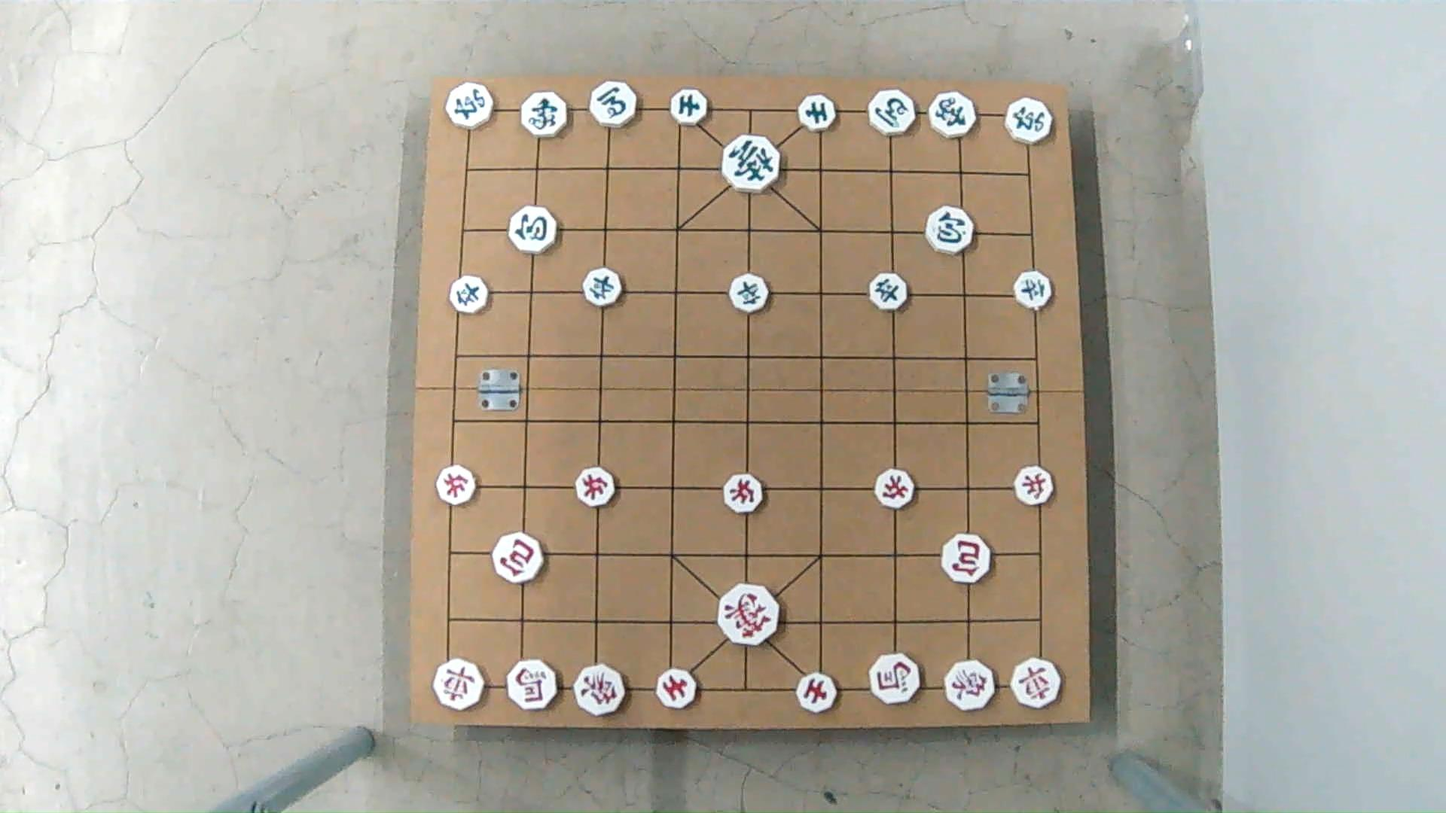cha_green: (1006, 96, 1057, 145), (444, 84, 496, 128)
cha_red: (1008, 660, 1063, 708), (431, 661, 486, 708)
jol_green: (580, 269, 626, 306), (865, 274, 911, 309), (725, 276, 770, 311), (1012, 273, 1055, 308), (449, 277, 491, 311)
jol_red: (432, 467, 479, 502), (719, 475, 765, 510), (574, 469, 618, 505), (1013, 470, 1058, 505), (874, 473, 917, 508)
ma_green: (588, 83, 640, 126), (865, 92, 918, 133)
ma_red: (507, 662, 561, 709), (870, 656, 924, 703)
po_green: (505, 209, 558, 252), (925, 210, 976, 252)
po_red: (942, 536, 995, 583), (491, 534, 545, 578)
sa_green: (797, 96, 838, 129), (672, 93, 713, 126)
sa_red: (655, 668, 697, 709), (793, 674, 838, 711)
sang_green: (518, 93, 570, 136), (927, 94, 978, 137)
sang_red: (576, 662, 628, 716), (942, 662, 997, 710)
wang_green: (720, 136, 782, 188)
wang_red: (715, 586, 781, 642)
